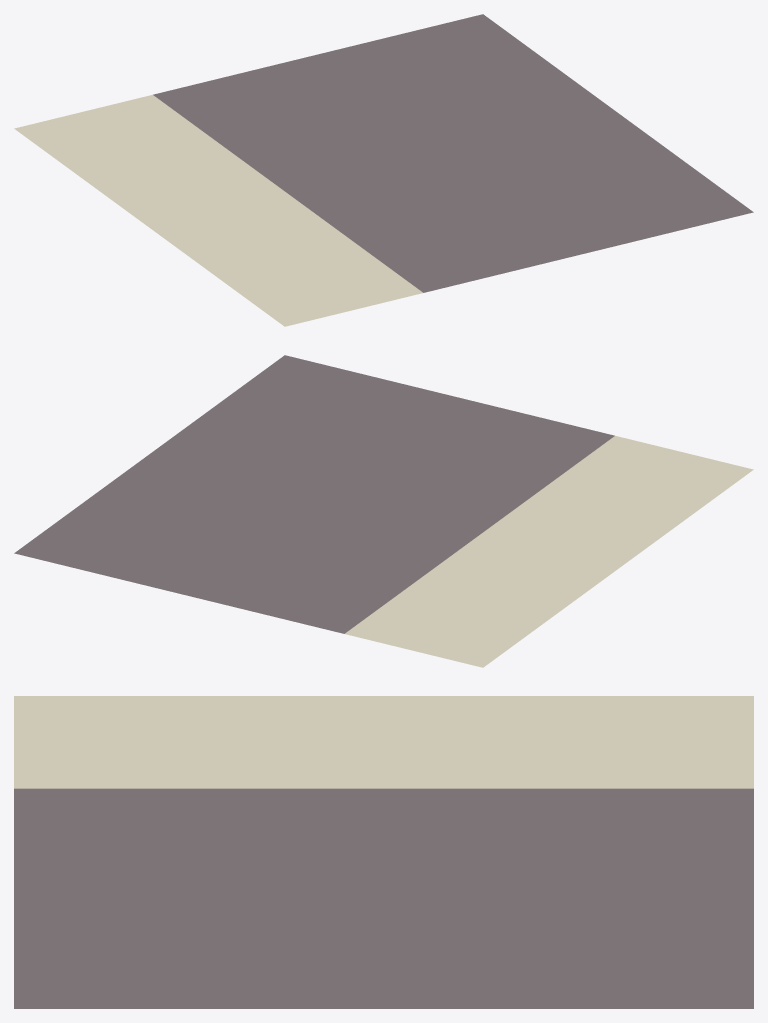
The model's file is stopTile.fbx.
3 renders of one model, top to bottom at view 1: azimuth 30°, elevation 25°; view 2: azimuth 150°, elevation 25°; view 3: azimuth 270°, elevation 25°, orthographic. The views are drawn at different scales.
Visible parts, largest first — view 1: stopTile; view 2: stopTile; view 3: stopTile.
Part boxes in pixels (x1,y1,x2,y2): stopTile: (14, 14, 753, 326); stopTile: (14, 355, 753, 667); stopTile: (14, 696, 753, 1008).
Bounding box in the file's own units: 150 × 3.33e-14 × 150.
